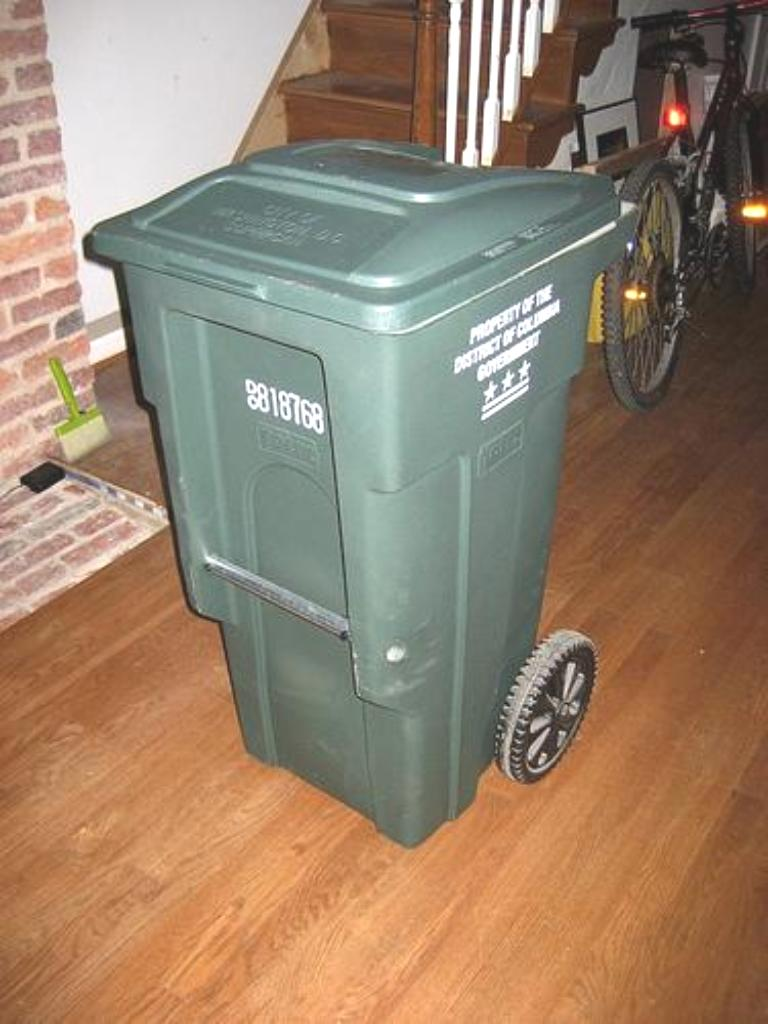dustbin: (88, 127, 632, 849)
